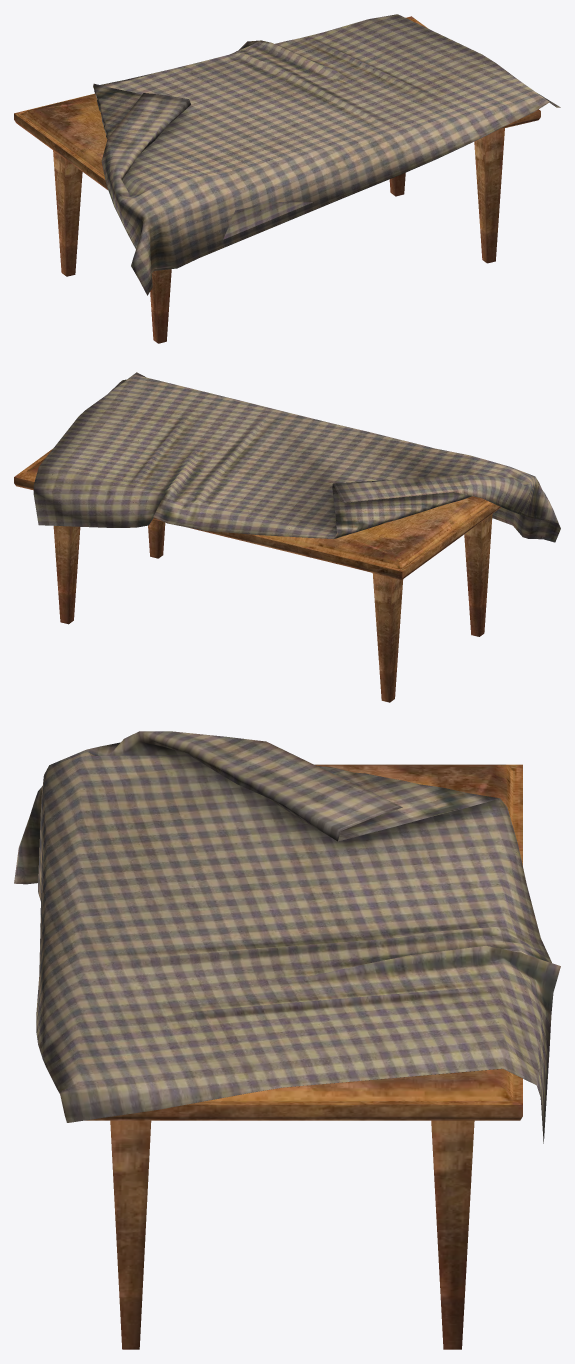
File: dining_table.glb
3 views of the same model, one above another, from view 1: azimuth 30°, elevation 25°; view 2: azimuth 150°, elevation 25°; view 3: azimuth 270°, elevation 25° (orthographic). The views are drawn at different scales.
Visible parts, largest first — view 1: dining_table; view 2: dining_table; view 3: dining_table.
Part boxes in pixels (x1,y1,x2,y2): dining_table: (14,14,560,343); dining_table: (14,372,560,702); dining_table: (14,731,560,1349).
Bounding box in the file's own units: 2.26 × 0.8769 × 1.39.
Materials: 1 (1 with a texture image).
